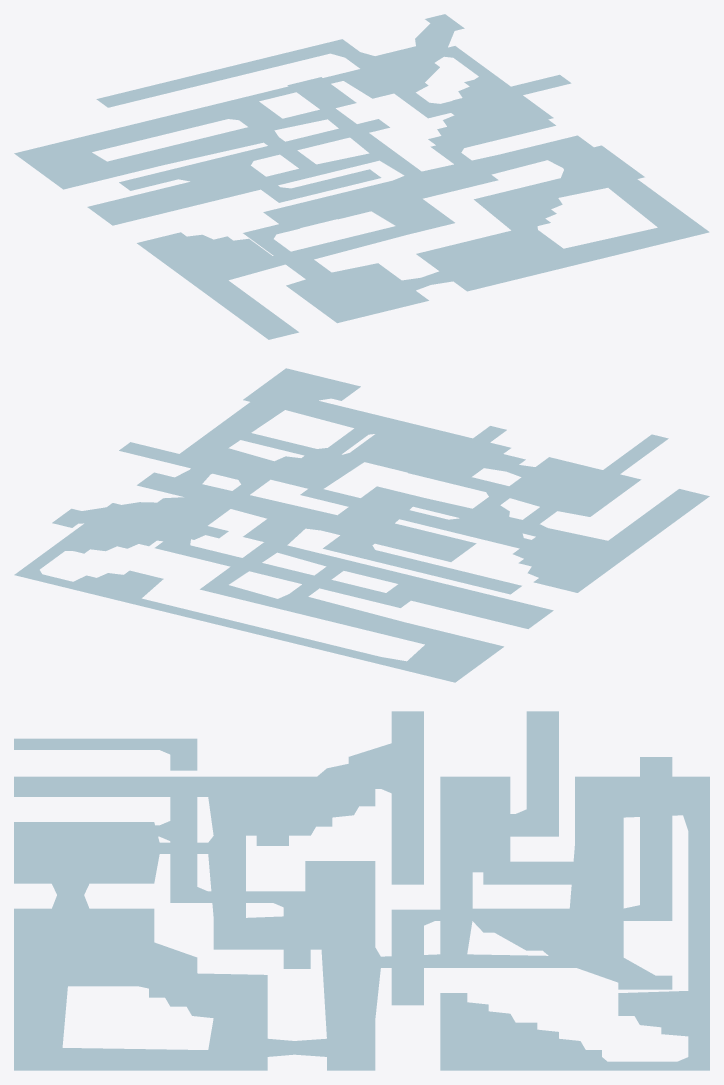
The model's file is MAZE-NavMesh.glb.
3 views of the same model, one above another, from view 1: azimuth 30°, elevation 25°; view 2: azimuth 150°, elevation 25°; view 3: azimuth 270°, elevation 25° (orthographic). The views are drawn at different scales.
Parts seen in each view (by area): view 1: Navmesh; view 2: Navmesh; view 3: Navmesh.
Boxes of the visible parts, bbox=[...] form: Navmesh: bbox=[14, 14, 709, 339]; Navmesh: bbox=[14, 368, 709, 682]; Navmesh: bbox=[14, 711, 709, 1070].
Size of the model in its own units: 38.7 by 4 by 38.7.
